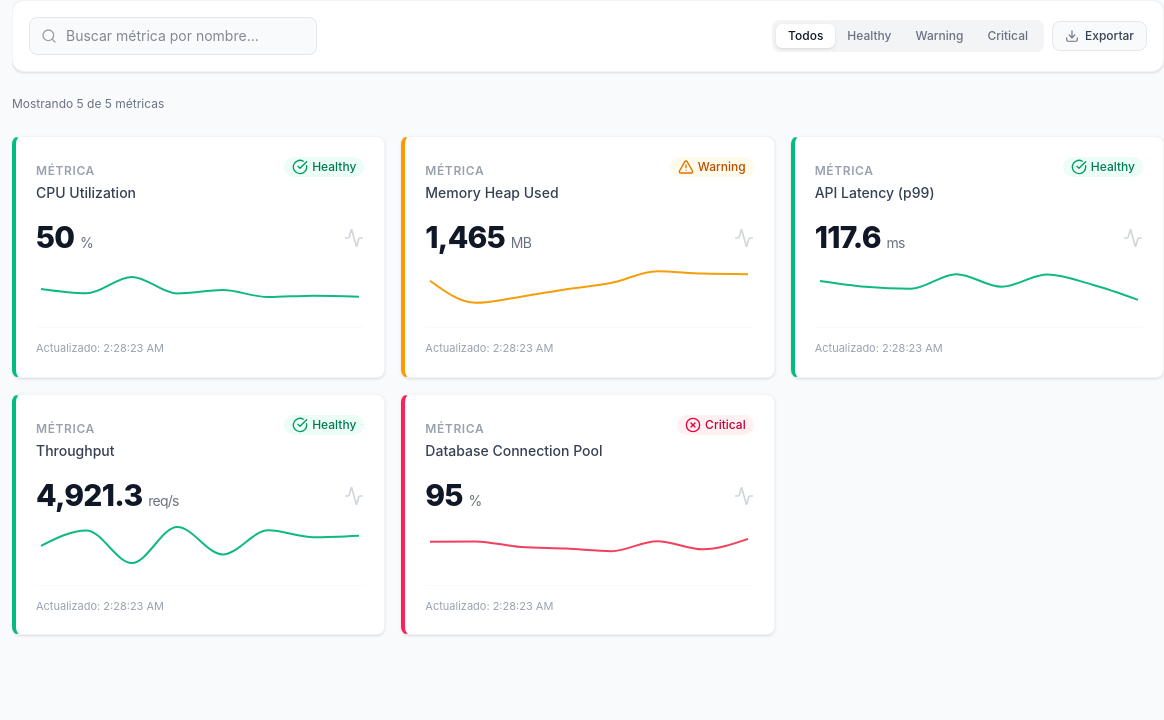
Test case: MetricsGrid Integration › filtra las métricas por categoría de estado al hacer clic en un botón
Expected: the heading "CPU Utilization" is shown, [36,183,136,203]
Click the button "Critical": (1008, 36) [975,24,1040,48]
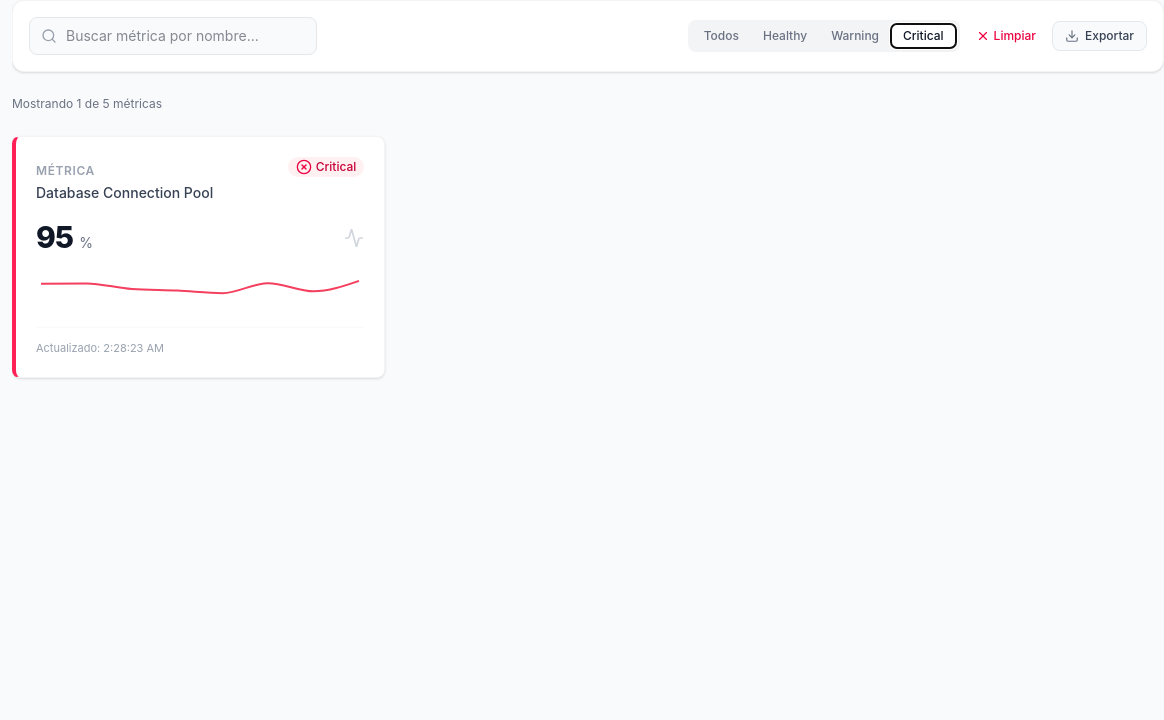
Expected: the heading "Database Connection Pool" is shown, [36,183,213,203]
Result: the heading "CPU Utilization" is gone
Result: the text "Mostrando 1 de 5 métricas" is shown at [12,96,162,112]
